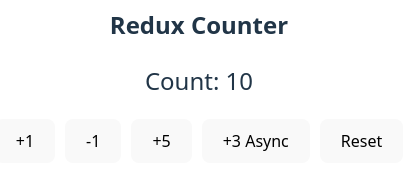
Counter Component › resets count when reset button is clicked
Step 1. Click the button with test id "reset-btn" → (362, 141), box [320,119,403,163]
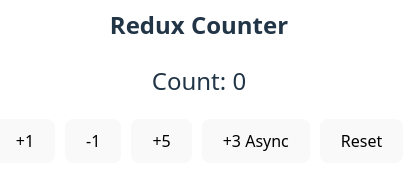
Now the text with test id "counter-value" reads "0", box [232,64,246,97]
